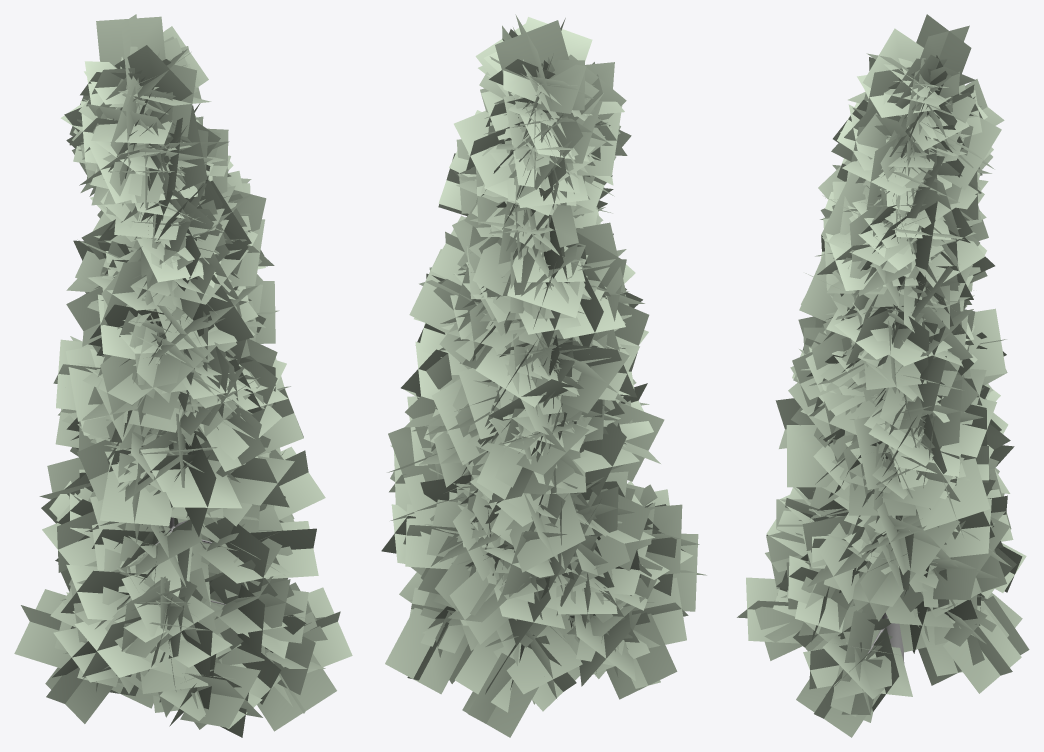
Rendered from sugi3.glb.
3 renders of one model, left to right at view 1: azimuth 30°, elevation 25°; view 2: azimuth 150°, elevation 25°; view 3: azimuth 270°, elevation 25°, orthographic. The views are drawn at different scales.
Size of the model in its own units: 7.24 by 17 by 6.83.
